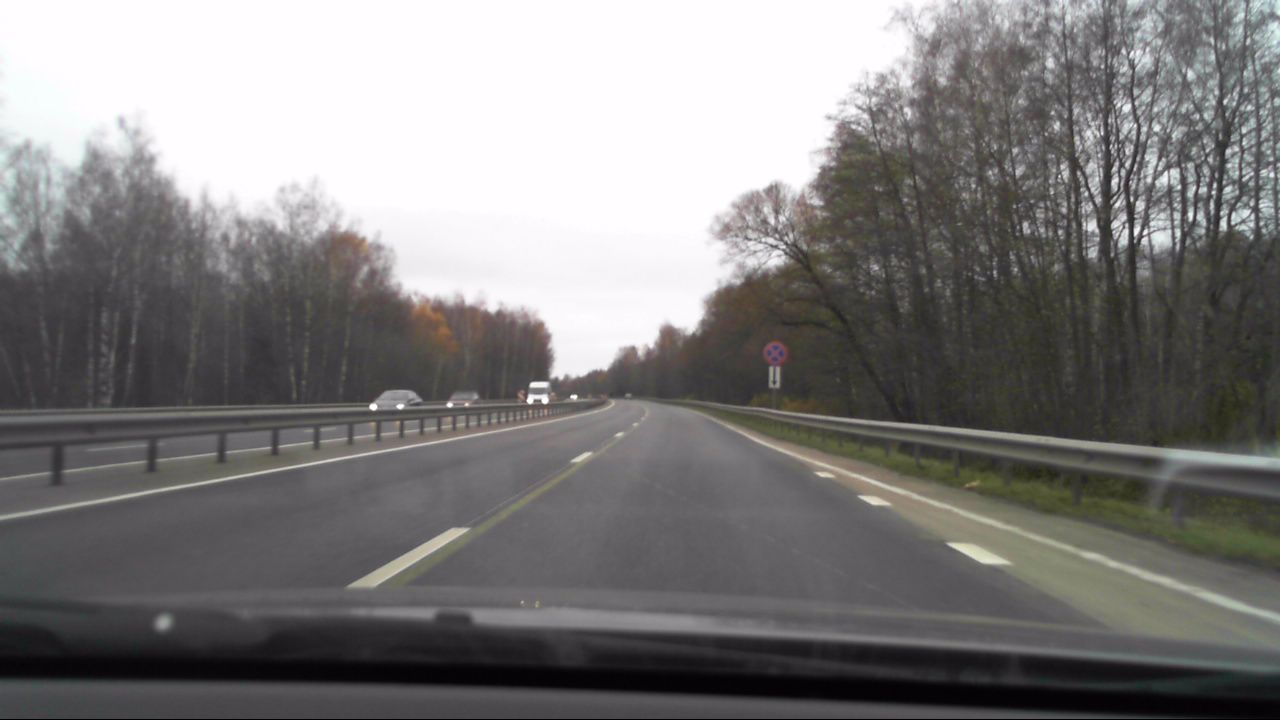No Parking: (763, 341, 786, 365)
